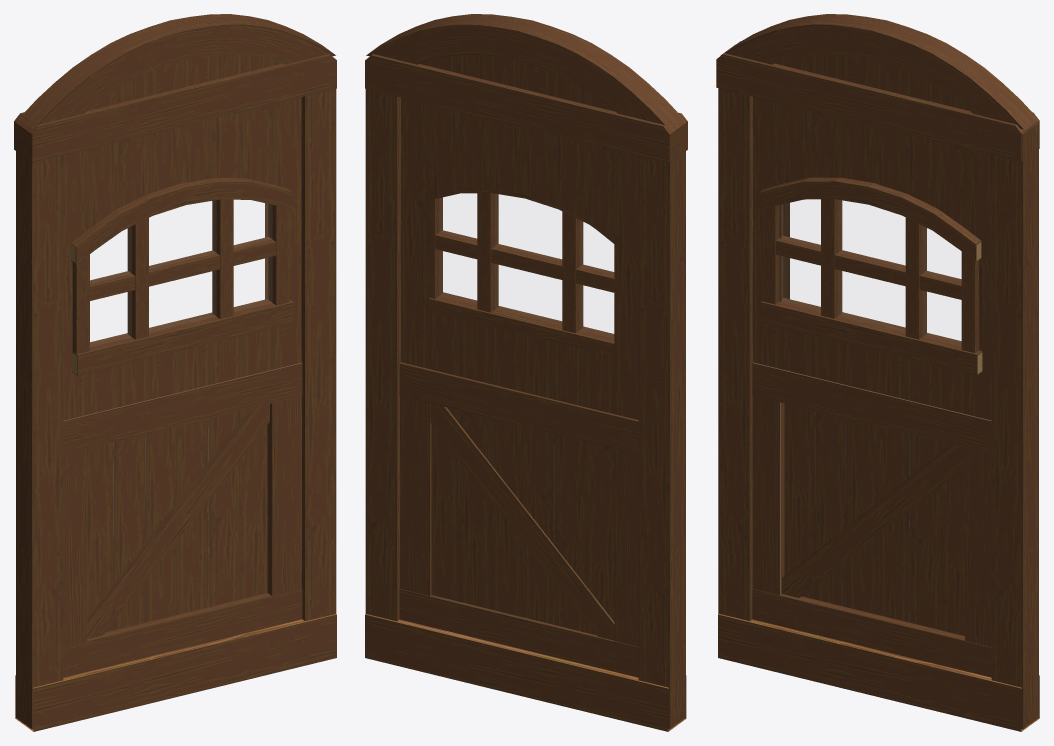
The model's file is Door_1_Round.gltf.
3 renders of one model, left to right at view 1: azimuth 30°, elevation 25°; view 2: azimuth 150°, elevation 25°; view 3: azimuth 330°, elevation 25°, orthographic.
Visible parts, largest first — view 1: Door_1_Round; view 2: Door_1_Round; view 3: Door_1_Round.
Boxes of the visible parts, x1,y1,x2,y2 form: Door_1_Round: (14,14,336,731); Door_1_Round: (365,14,687,731); Door_1_Round: (716,14,1039,731).
Size of the model in its own units: 1.12 by 2.32 by 0.1207.
Materials: 2 (1 with a texture image).
